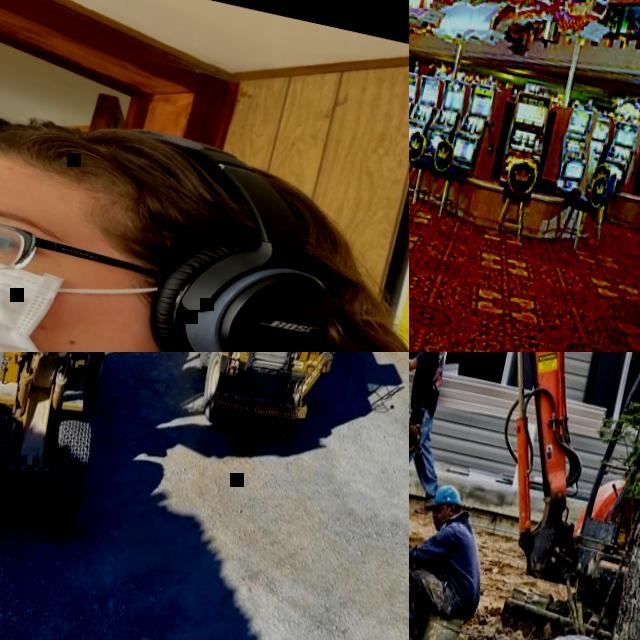Mask: (0, 225, 179, 352)
NO-Hardhat: (0, 79, 371, 293), (426, 478, 466, 507)
NO-Mask: (431, 517, 443, 531)
NO-Safety Vest: (430, 520, 485, 594), (409, 352, 449, 407)
Person: (0, 48, 409, 352), (409, 469, 501, 640), (409, 352, 476, 518)
machinery: (409, 352, 640, 640), (0, 352, 167, 568), (169, 352, 371, 462)
